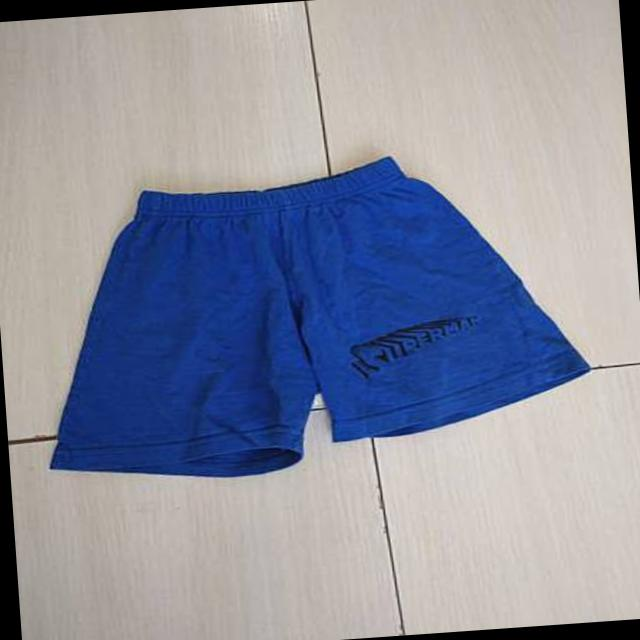SHORT: (17, 132, 606, 498)
